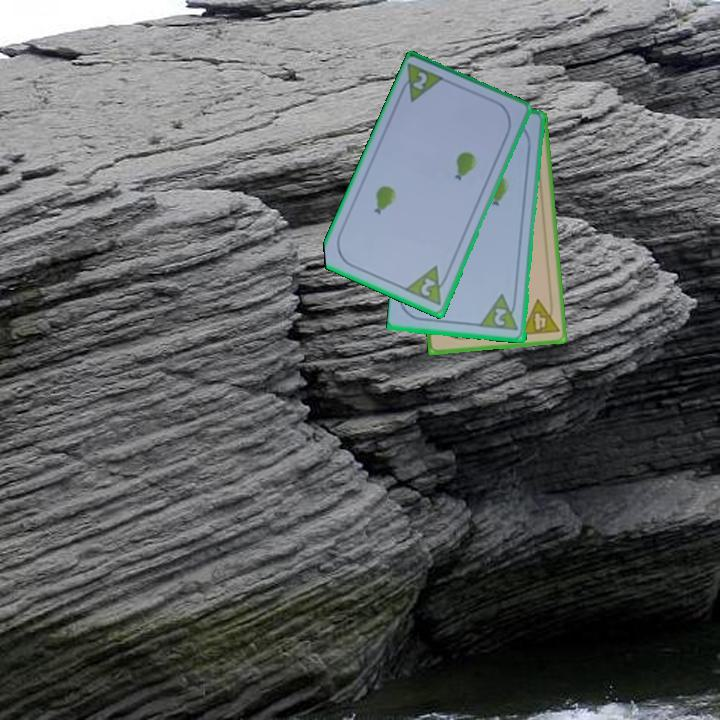2p: (401, 263, 453, 309), (478, 291, 522, 334), (409, 68, 431, 93)
4p: (517, 295, 562, 338)
